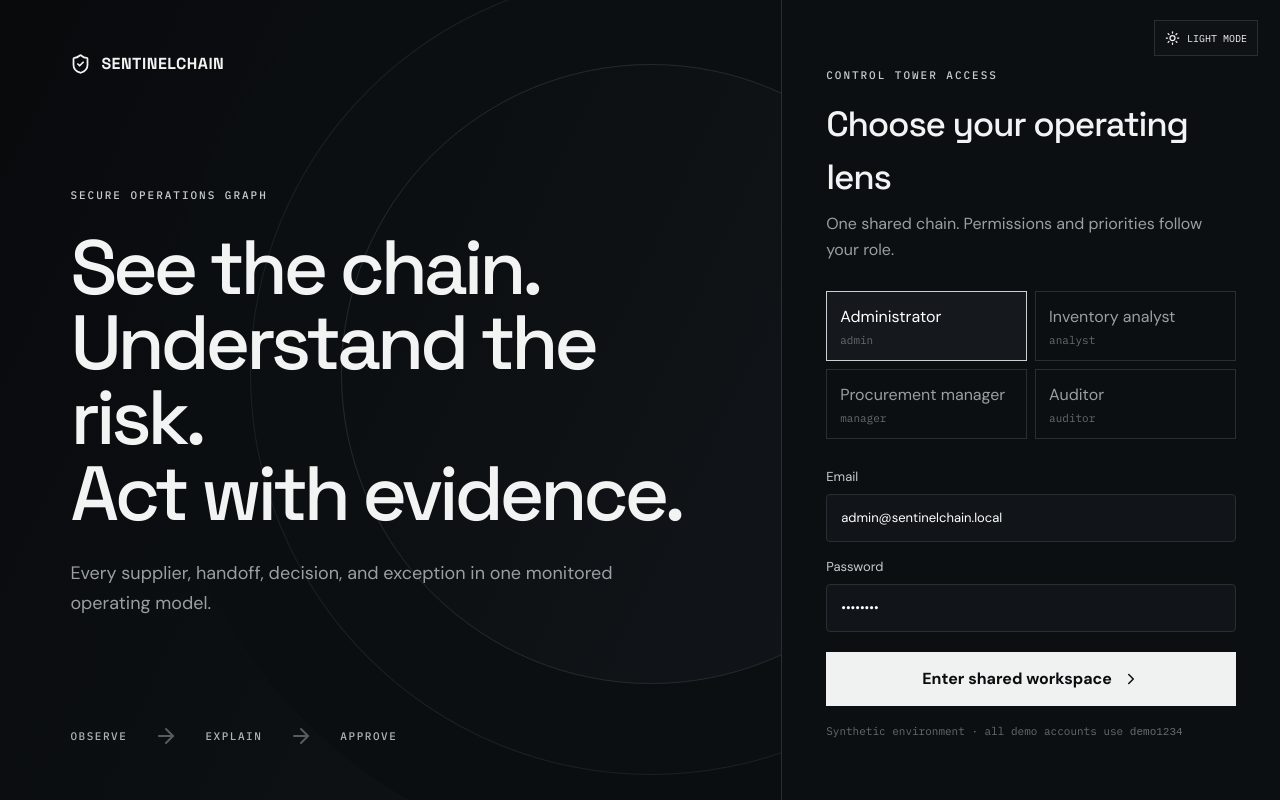
it: SentinelChain application › authenticates and shows the shared supply-chain workspace
Click the button "Enter shared workspace" at (1031, 679), box [826,652,1236,706]
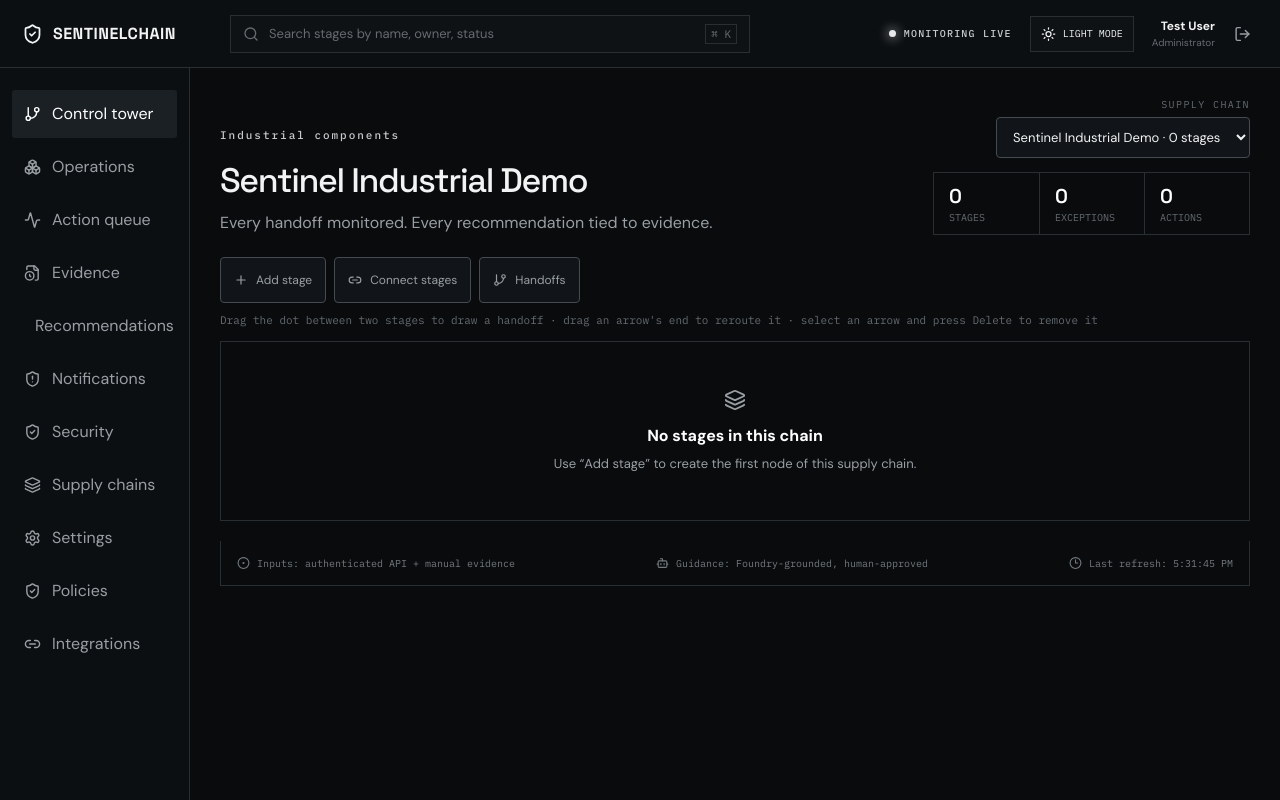
Now the heading "Sentinel Industrial Demo" is shown, box [220,159,587,202]
Now the text "Every handoff monitored. Every recommendation tied to evidence." is shown, box [220,211,712,235]
Now the button "Supply chains" is shown, box [12,461,177,509]
